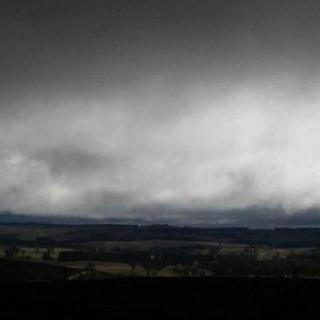Stratus: (0, 0, 320, 223)
